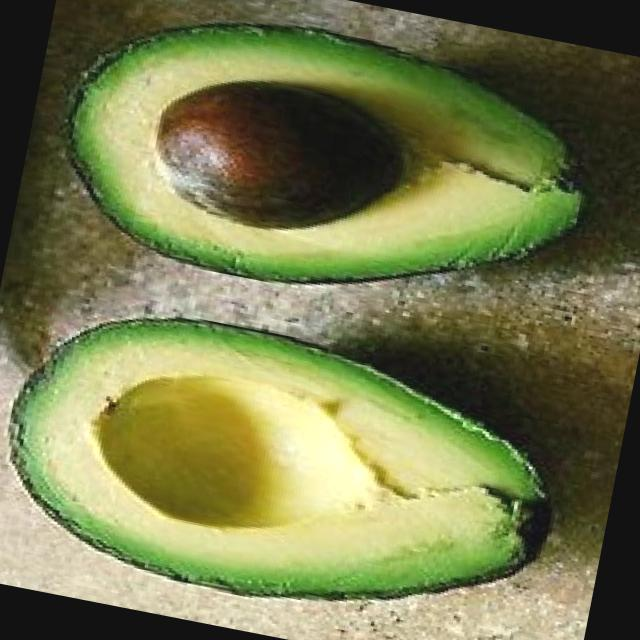avocado: (0, 281, 571, 640), (45, 0, 605, 341)
